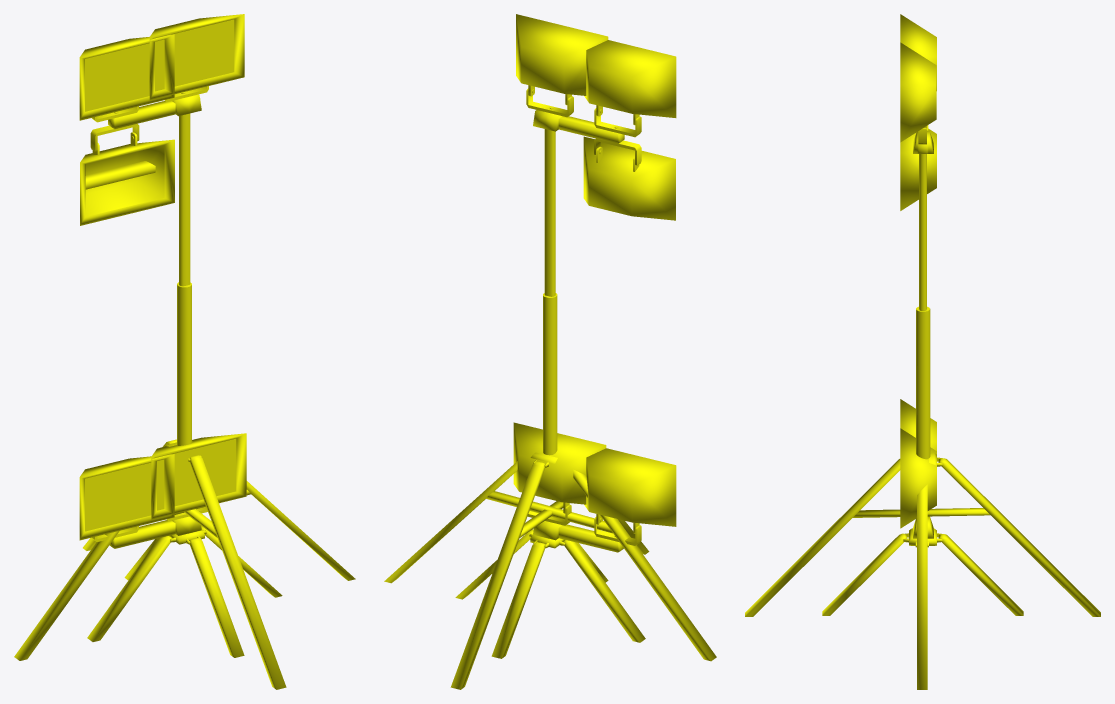
Rendered from Construction_Light.fbx.
The picture shows the model from 3 angles, left to right: view 1: azimuth 30°, elevation 25°; view 2: azimuth 150°, elevation 25°; view 3: azimuth 270°, elevation 25°; orthographic projection. The views are drawn at different scales.
Visible parts, largest first — view 1: Construction_Light, Construction_Light_Small, Construction_Light_Double_Small, Construction_Light_Four, Construction_Light_Double; view 2: Construction_Light, Construction_Light_Small, Construction_Light_Double, Construction_Light_Double_Small, Construction_Light_Four; view 3: Construction_Light, Construction_Light_Small, Construction_Light_Four, Construction_Light_Double, Construction_Light_Double_Small.
Boxes of the visible parts, x1,y1,x2,y2 form: Construction_Light: [14, 14, 355, 689]; Construction_Light_Small: [87, 433, 282, 657]; Construction_Light_Double_Small: [79, 454, 175, 548]; Construction_Light_Four: [80, 123, 174, 225]; Construction_Light_Double: [79, 34, 175, 128]; Construction_Light: [384, 14, 716, 689]; Construction_Light_Small: [455, 422, 645, 658]; Construction_Light_Double: [558, 40, 676, 143]; Construction_Light_Double_Small: [558, 448, 676, 552]; Construction_Light_Four: [583, 136, 675, 220]; Construction_Light: [745, 42, 1100, 689]; Construction_Light_Small: [822, 428, 1023, 615]; Construction_Light_Four: [900, 128, 936, 210]; Construction_Light_Double: [900, 14, 936, 130]; Construction_Light_Double_Small: [900, 399, 936, 450].
Size of the model in its own units: 100 by 171 by 99.97.
